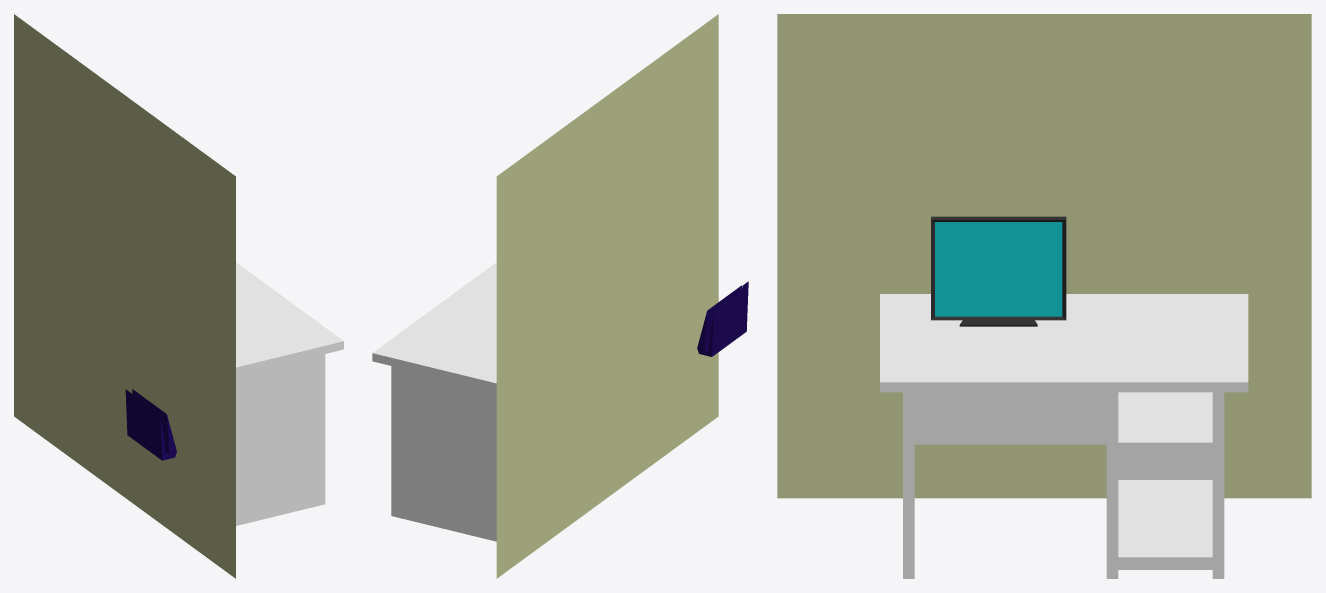
Rendered from scn.gltf.
The picture shows the model from 3 angles, left to right: view 1: azimuth 30°, elevation 25°; view 2: azimuth 150°, elevation 25°; view 3: azimuth 270°, elevation 25°; orthographic projection. The views are drawn at different scales.
Parts seen in each view (by area): view 1: Plane, Cube001, Cube; view 2: Plane, Cube001, Cube; view 3: Plane, Cube001, Cube001_2, Cube001_1.
Boxes of the visible parts, bbox=[...] form: Plane: bbox=[14, 14, 235, 578]; Cube001: bbox=[236, 262, 343, 525]; Cube: bbox=[125, 389, 176, 460]; Plane: bbox=[496, 14, 718, 578]; Cube001: bbox=[372, 262, 496, 541]; Cube: bbox=[697, 281, 748, 356]; Plane: bbox=[777, 14, 1311, 498]; Cube001: bbox=[880, 294, 1248, 578]; Cube001_2: bbox=[935, 222, 1062, 316]; Cube001_1: bbox=[931, 216, 1066, 326].
Size of the model in its own units: 3.78 by 7.15 by 7.15.
